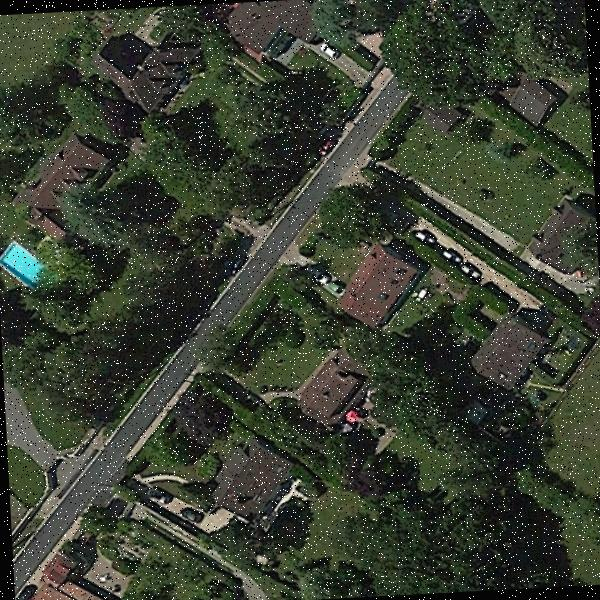Buildings: (210, 432, 293, 518), (227, 0, 318, 59), (113, 33, 189, 102), (346, 247, 406, 322), (472, 318, 542, 381), (18, 156, 94, 212), (296, 355, 360, 420), (531, 198, 595, 262), (494, 78, 566, 124), (37, 559, 114, 600), (422, 110, 458, 138)
